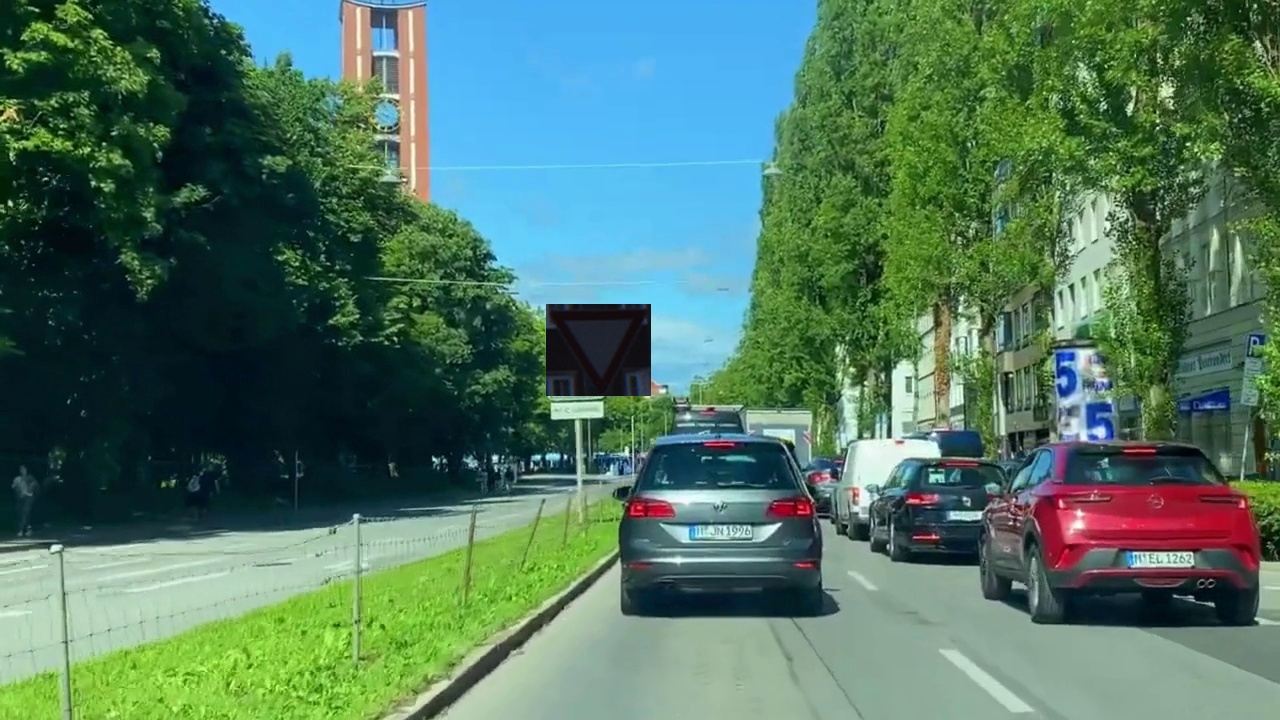Yield: (546, 304, 651, 396)
